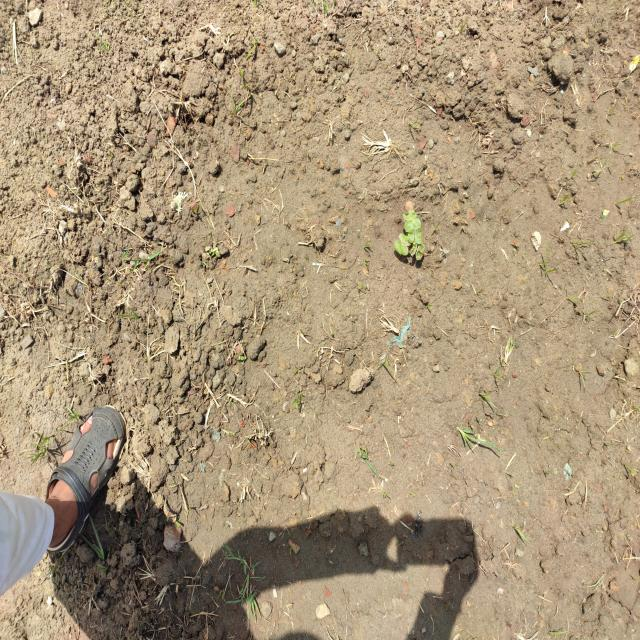seedling_s1: (394, 240, 409, 256), (404, 218, 421, 232), (403, 210, 418, 221), (399, 233, 411, 246), (416, 243, 425, 260), (415, 226, 422, 245), (409, 240, 417, 256), (408, 227, 415, 243)
